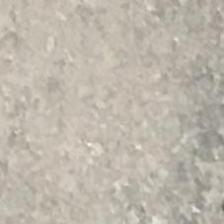Non_Crack: (23, 24, 201, 206)
